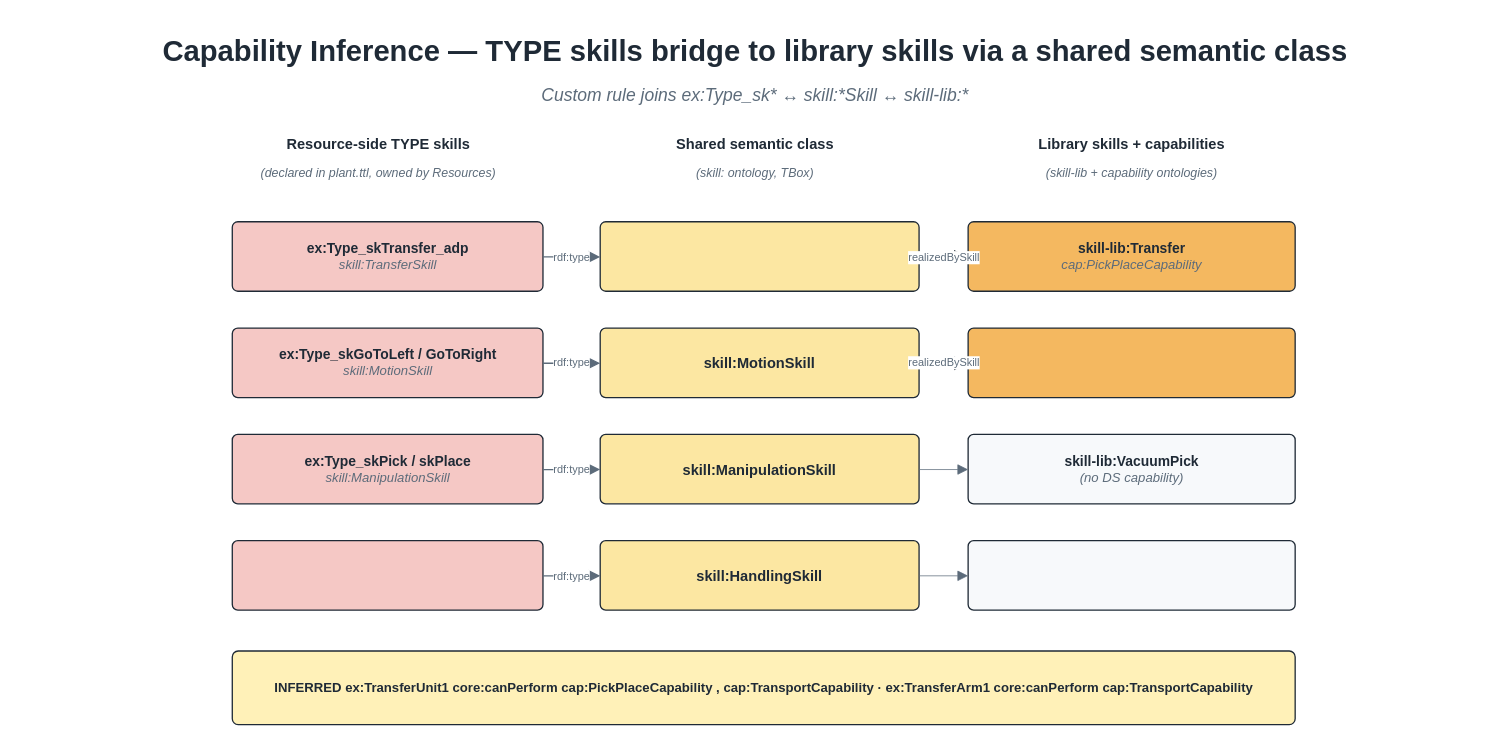
The diagram is 1510 pixels wide and 750 high, and some of its shapes have lost their labels. The shapes that lost their labels are listed below. From the top down, each one's box as (x1, y1, x2, y2) in pixels, then its label:
(599, 220, 919, 291): skill:TransferSkill
(967, 327, 1295, 398): skill-lib:MoveLinear / MoveJoint cap:TransportCapability
(231, 539, 543, 610): ex:Type_skLoad_adp / skPush_adp skill:HandlingSkill
(967, 539, 1295, 610): (no library) cap:HandlingCapability
